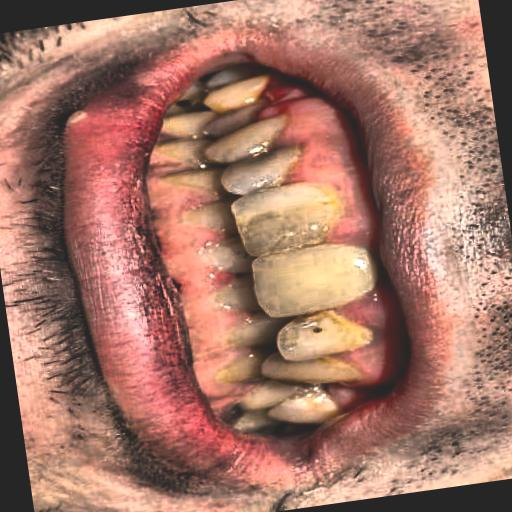Gingivitis: (266, 70, 428, 409)
